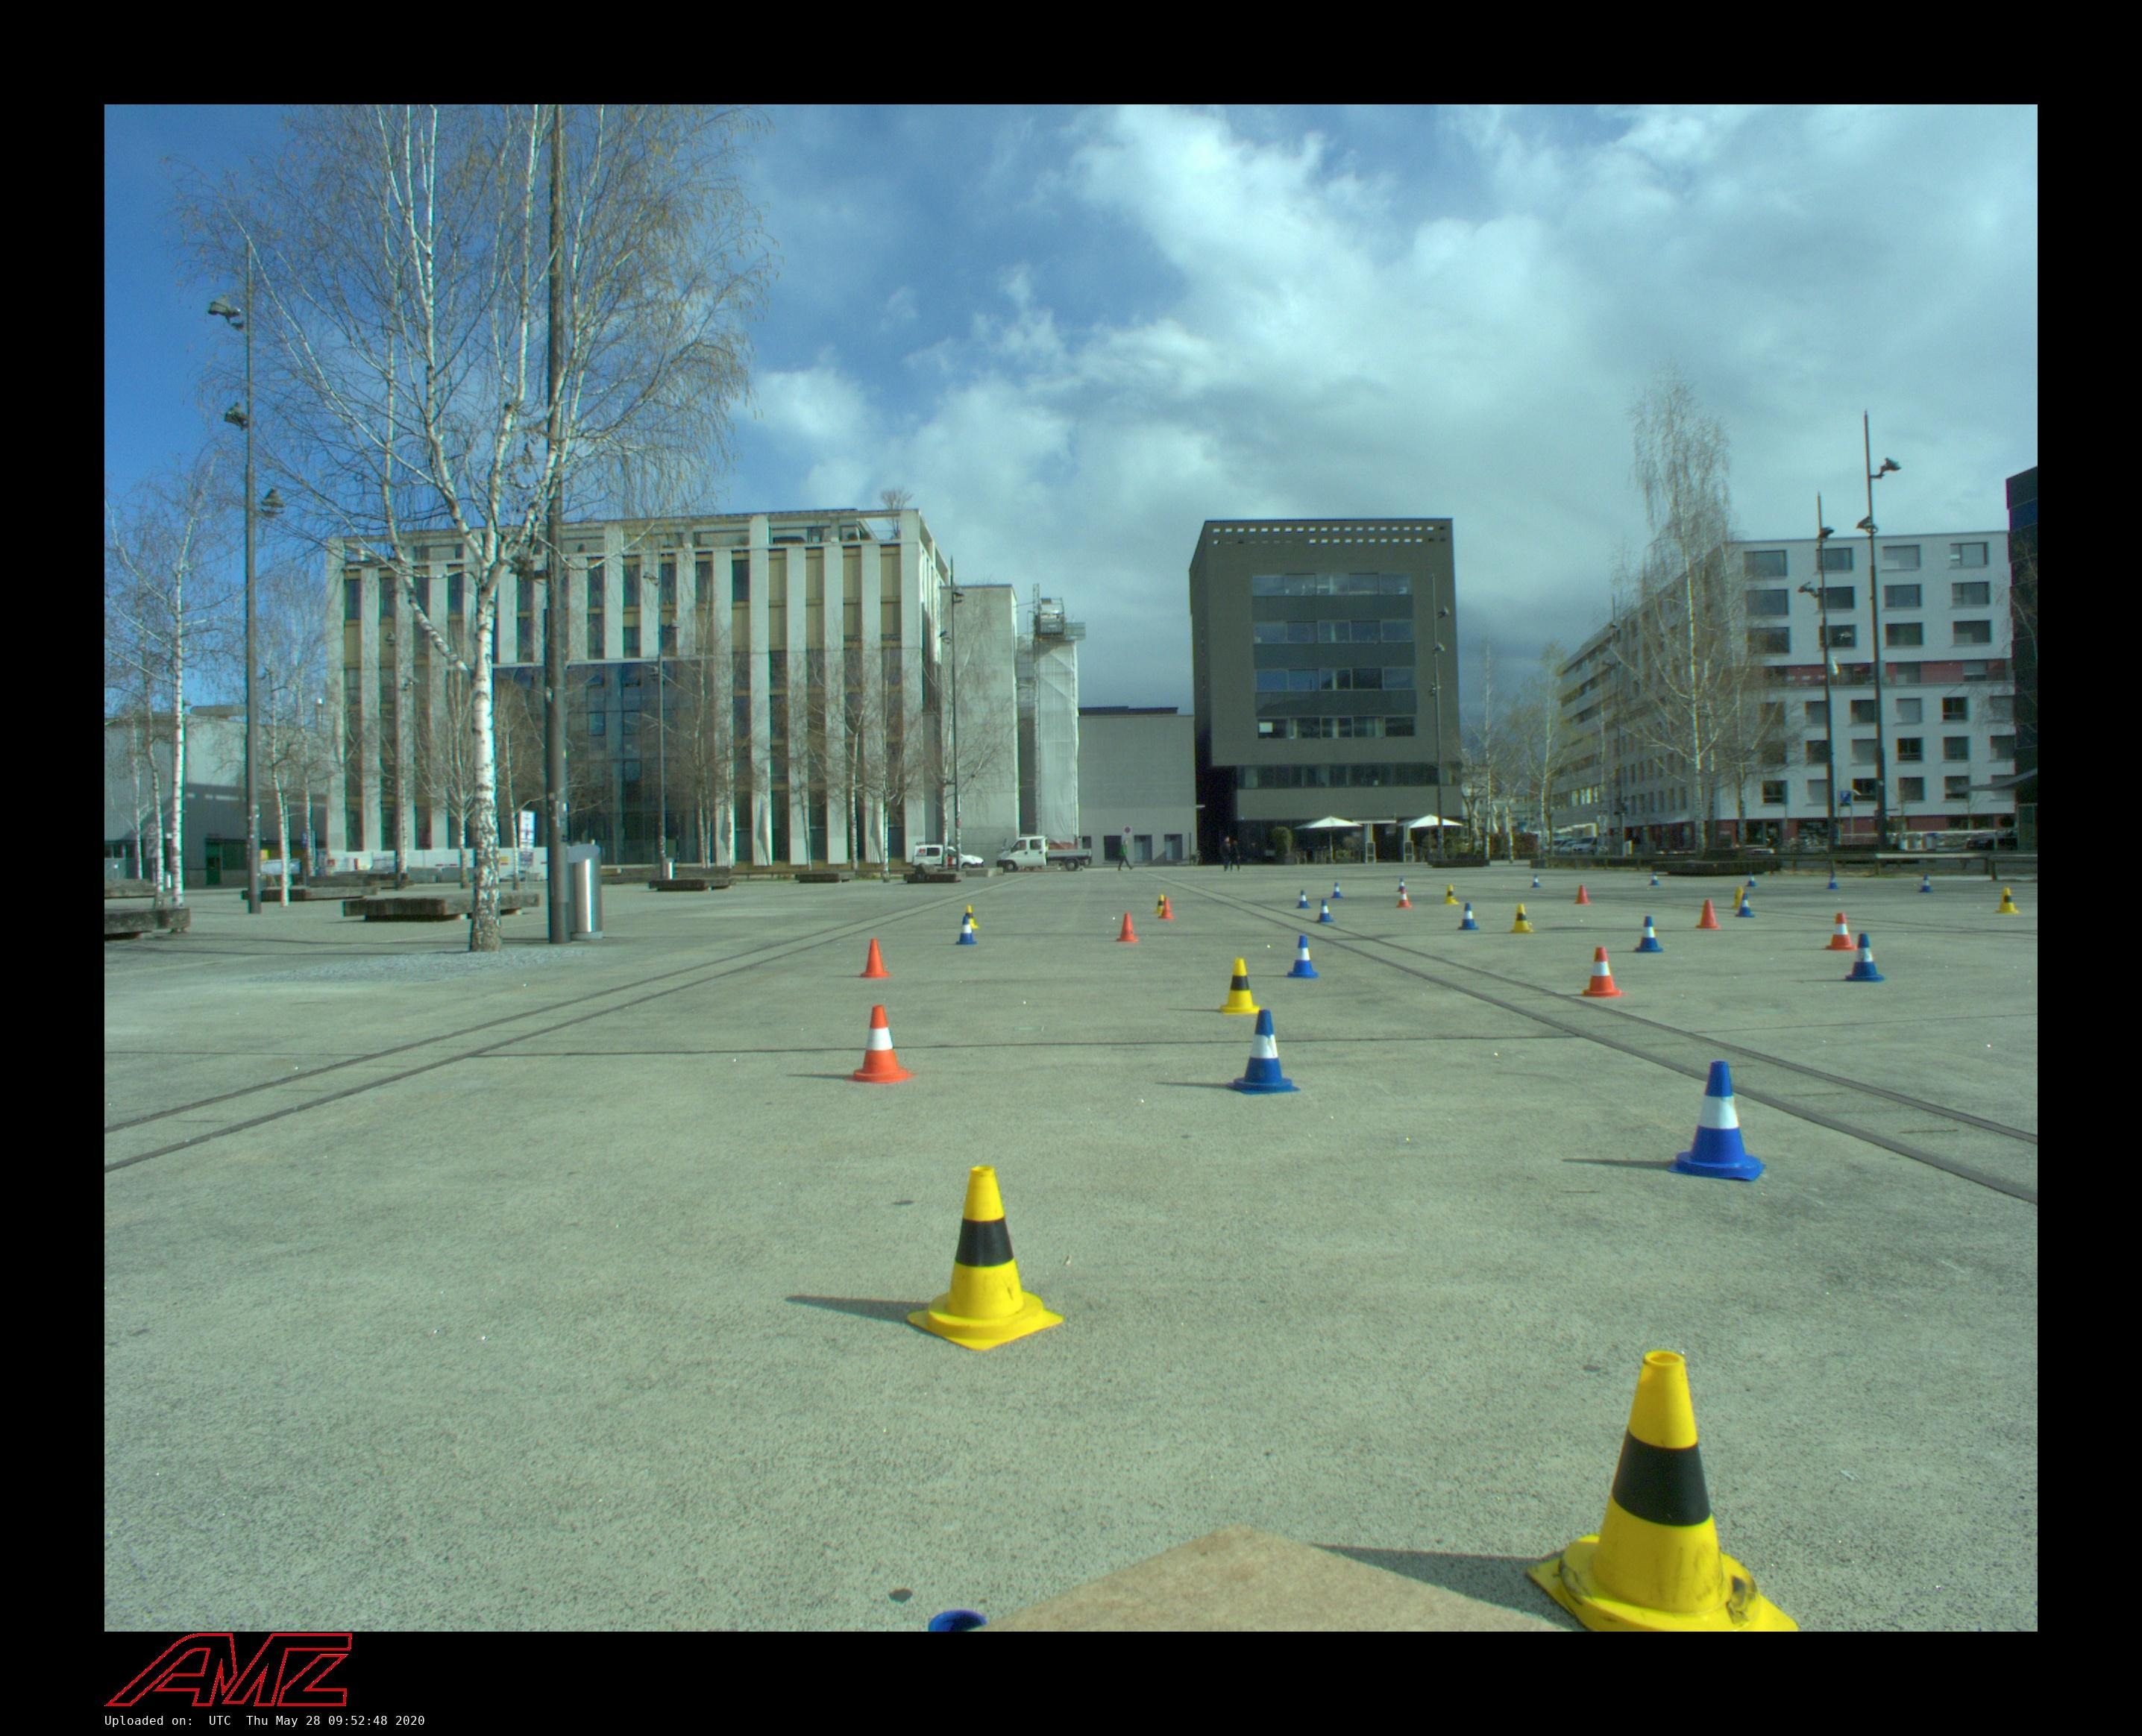blue_cone: (1664, 1063, 1767, 1180), (1225, 1009, 1301, 1095), (1841, 933, 1886, 982), (1285, 935, 1319, 978), (1633, 916, 1665, 952), (953, 916, 978, 945), (1456, 902, 1479, 931), (1736, 893, 1756, 917), (1316, 899, 1334, 923), (1918, 875, 1932, 893), (1296, 890, 1310, 908), (1331, 881, 1343, 899), (1827, 873, 1839, 890), (1745, 872, 1757, 887), (1397, 878, 1408, 893), (1650, 872, 1660, 885), (1531, 875, 1541, 887)
orange_cone: (846, 1005, 915, 1083), (1580, 946, 1624, 998), (1822, 912, 1859, 951), (859, 939, 890, 978), (1695, 899, 1721, 929), (1115, 912, 1140, 943), (1158, 897, 1176, 919), (1395, 888, 1413, 909), (1574, 884, 1592, 905)
yellow_cone: (1522, 1349, 1801, 1631), (905, 1167, 1062, 1350), (1216, 958, 1263, 1015), (1508, 903, 1536, 934), (1994, 887, 2020, 914), (960, 905, 979, 929), (1730, 886, 1748, 909), (1442, 884, 1460, 905), (1154, 894, 1170, 914)
